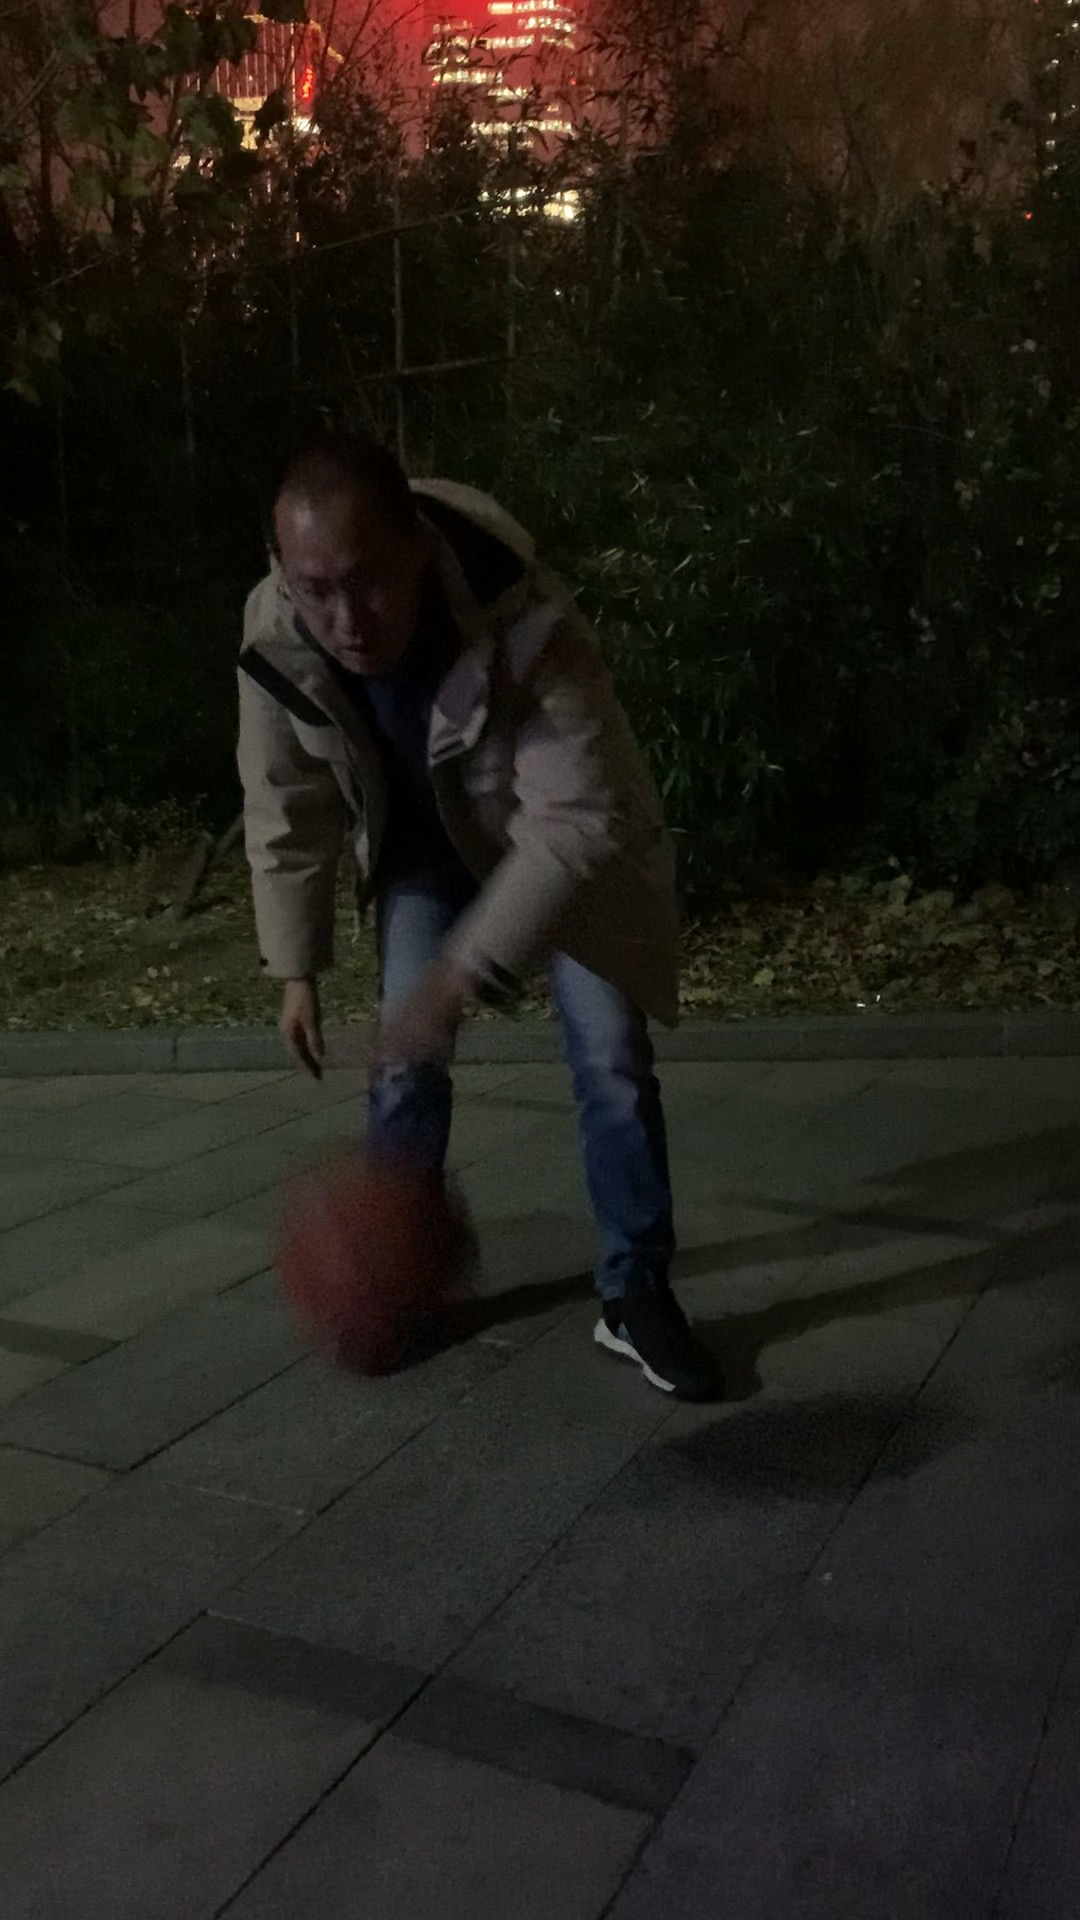ball: (281, 1168, 481, 1361)
